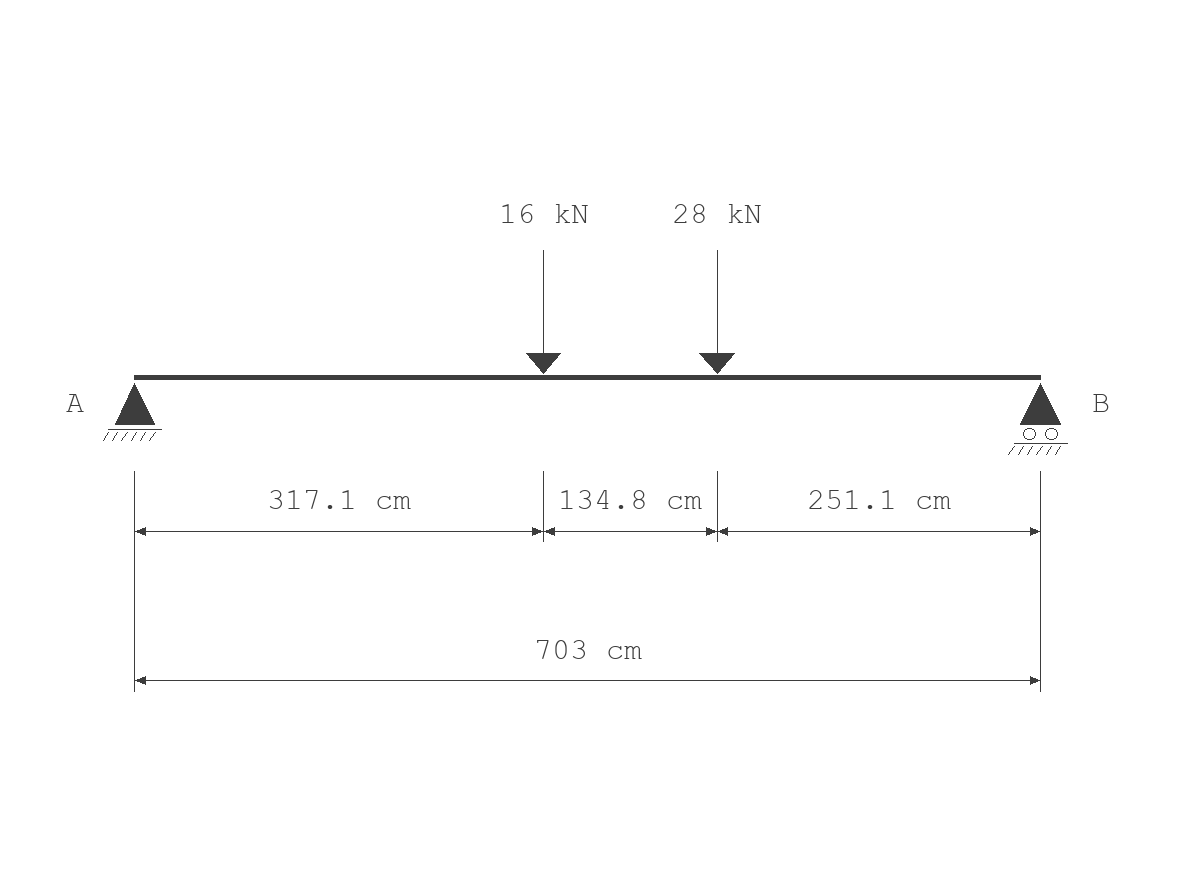pin_support: (103, 383, 162, 441)
point_load: (699, 250, 735, 374), (526, 250, 561, 374)
roller_support: (1008, 383, 1068, 455)
